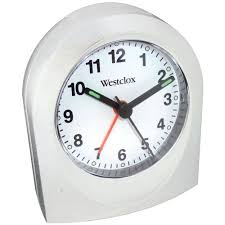alarm_clock: (23, 0, 211, 220), (20, 0, 203, 220), (23, 0, 203, 220)
